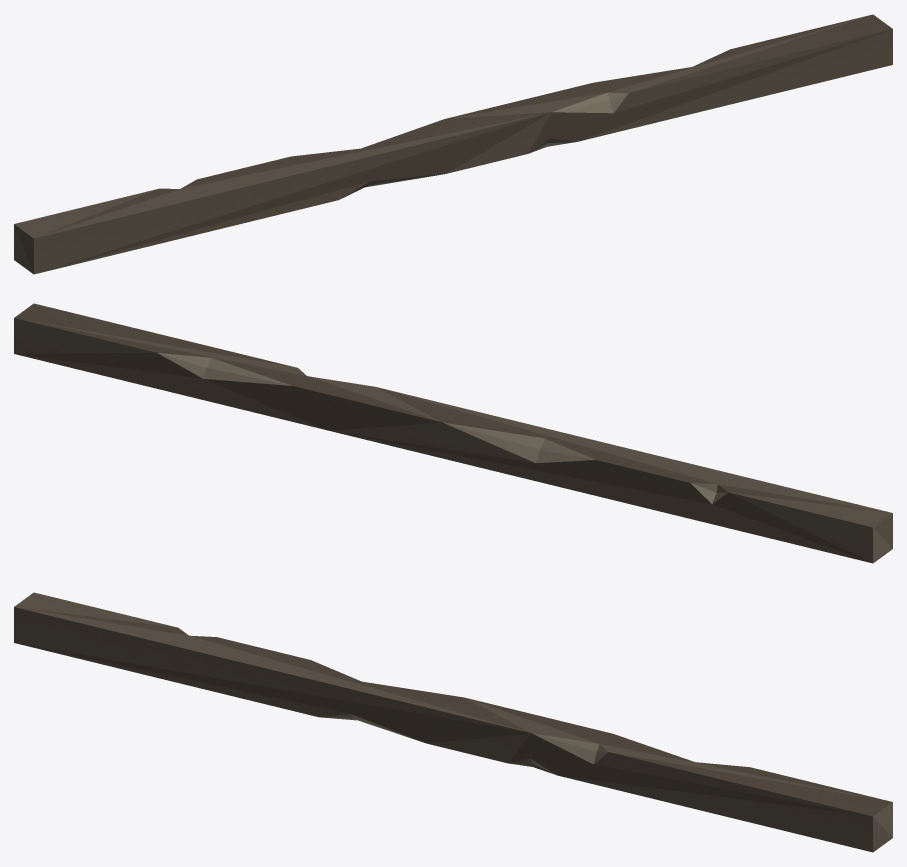
File: Wood_4.fbx
3 renders of one model, top to bottom at view 1: azimuth 30°, elevation 25°; view 2: azimuth 150°, elevation 25°; view 3: azimuth 330°, elevation 25°, orthographic.
Visible parts, largest first — view 1: polySurface1111; view 2: polySurface1111; view 3: polySurface1111.
Part boxes in pixels (x1,y1,x2,y2): polySurface1111: [14, 14, 892, 274]; polySurface1111: [14, 303, 892, 563]; polySurface1111: [14, 592, 892, 852].
Bounding box in the file's own units: 10 × 0.4 × 0.4.
